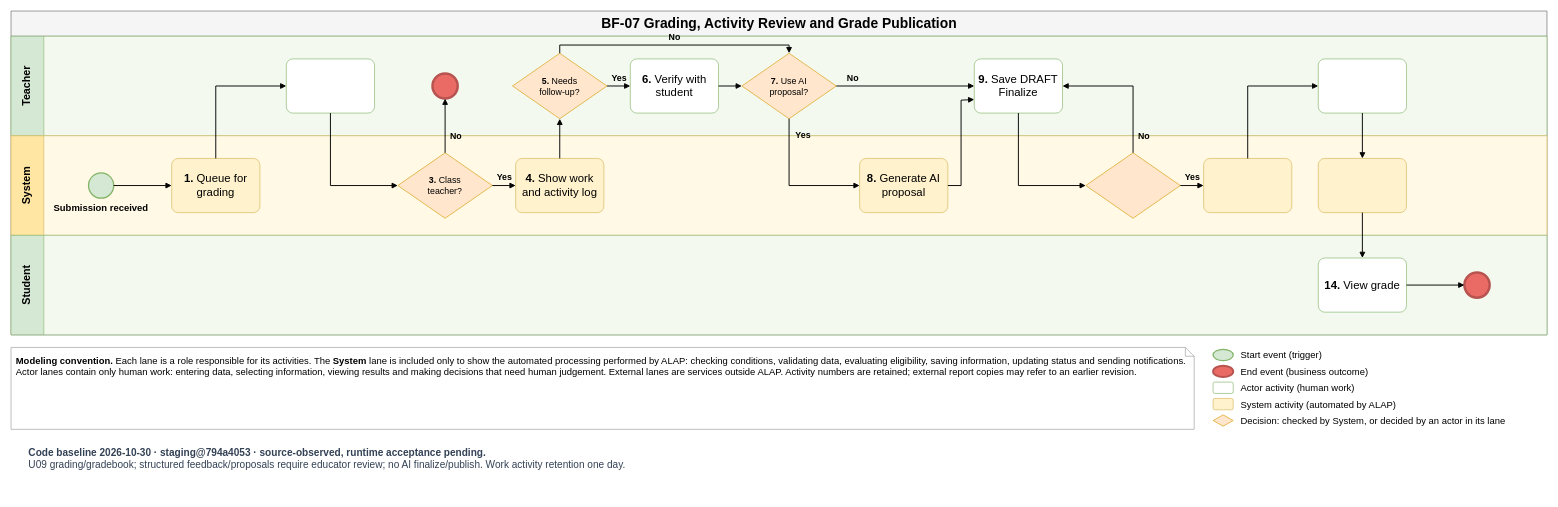
Some shapes in this 1558 by 507 pixel diagram are drawn without their labels. Here are the shapes that lost their labels. From the top down, the centre of each, then its label:
At point (330, 85): "2. Open submission".
At point (445, 86): "Access refused".
At point (1362, 85): "12. Publish grades".
At point (1132, 185): "10. Grades valid?".
At point (1247, 185): "11. Mark FINALIZED".
At point (1362, 185): "13. Publish, notify students".
At point (1477, 285): "Grade published".
